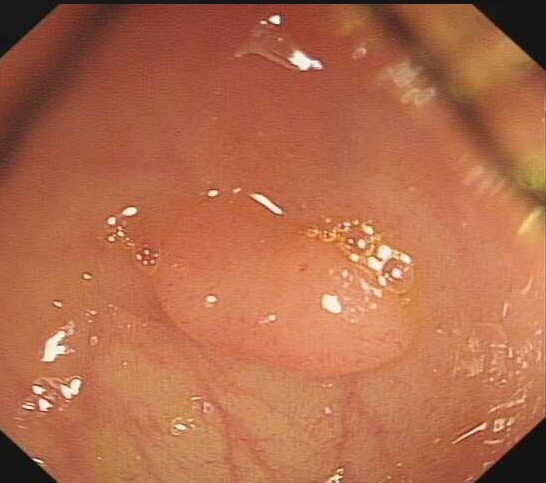others: (149, 192, 415, 379)
